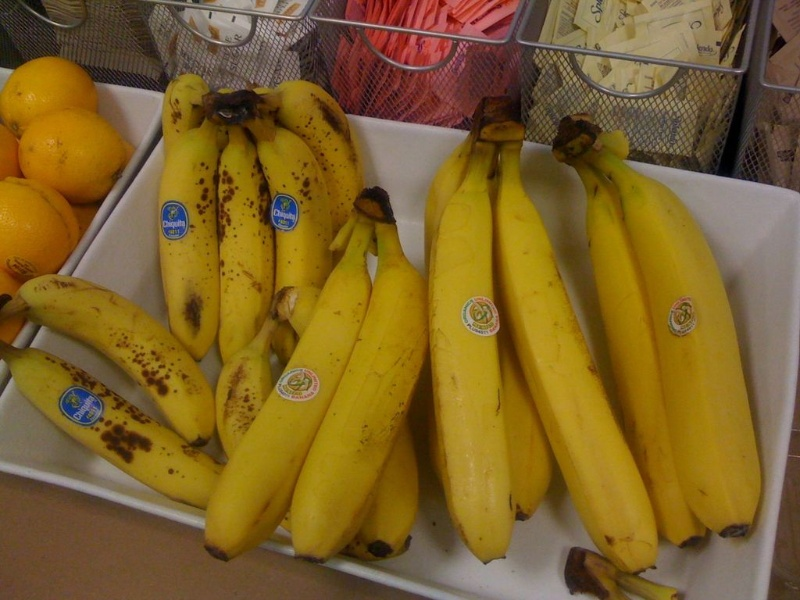banana: (557, 109, 775, 566), (268, 180, 424, 568), (420, 93, 533, 573), (2, 336, 227, 504), (157, 78, 238, 361)
